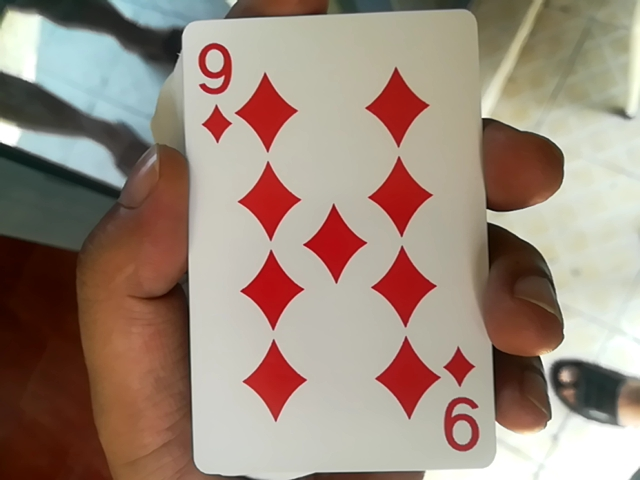fk 9: (168, 16, 524, 474)
